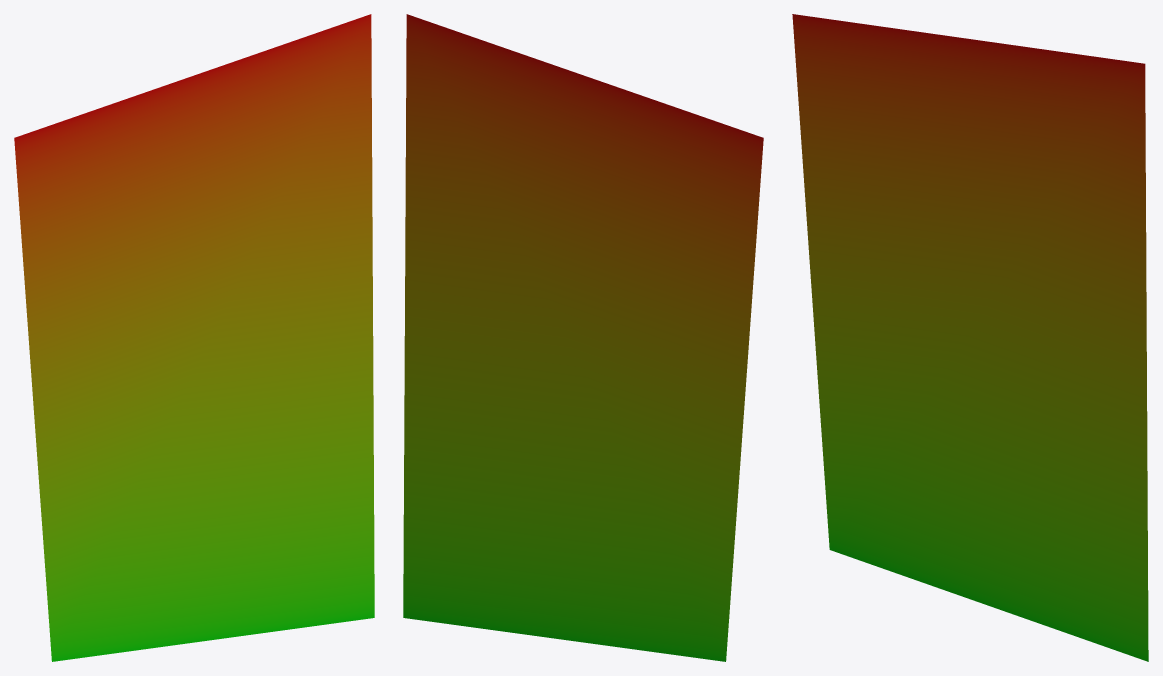
The model's file is Seaweed_LOD3_Var7_sdpjN.fbx.
The picture shows the model from 3 angles, left to right: view 1: azimuth 30°, elevation 25°; view 2: azimuth 150°, elevation 25°; view 3: azimuth 330°, elevation 25°; orthographic projection.
Parts seen in each view (by area): view 1: _0501_Var7_LOD3; view 2: _0501_Var7_LOD3; view 3: _0501_Var7_LOD3.
Part boxes in pixels (x1,y1,x2,y2): _0501_Var7_LOD3: (14,14,374,661); _0501_Var7_LOD3: (403,14,763,661); _0501_Var7_LOD3: (792,14,1148,661).
Size of the model in its own units: 15.11 by 24.23 by 1.43e-06.
